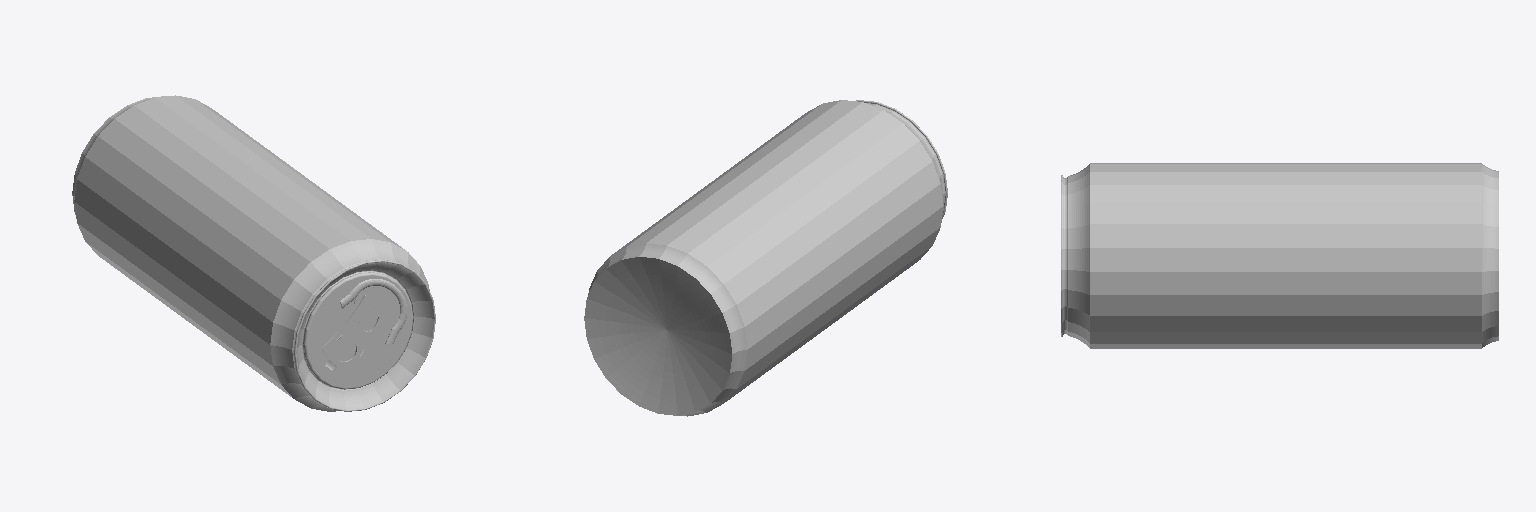
Rendered from model_align.obj.
3 views of the same model, side by side, from view 1: azimuth 30°, elevation 25°; view 2: azimuth 150°, elevation 25°; view 3: azimuth 270°, elevation 25° (orthographic).
Visible parts, largest first — view 1: mesh1_mesh1-geometry, mesh3_mesh3-geometry, mesh2_mesh2-geometry; view 2: mesh1_mesh1-geometry; view 3: mesh1_mesh1-geometry.
Part boxes in pixels (x1,y1,x2,y2): mesh1_mesh1-geometry: (72,95,435,411); mesh3_mesh3-geometry: (322,295,393,372); mesh2_mesh2-geometry: (340,279,406,344); mesh1_mesh1-geometry: (584,100,947,416); mesh1_mesh1-geometry: (1061,163,1498,348).
Size of the model in its own units: 0.0641 by 0.0641 by 0.151.